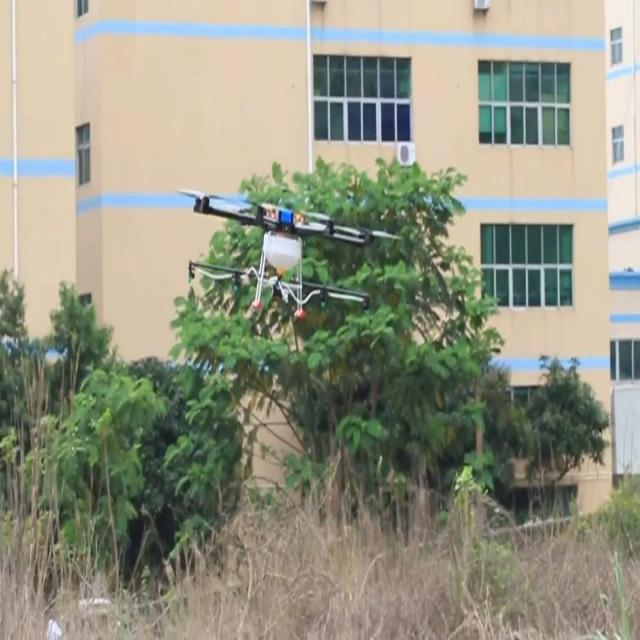drone: (176, 186, 400, 324)
